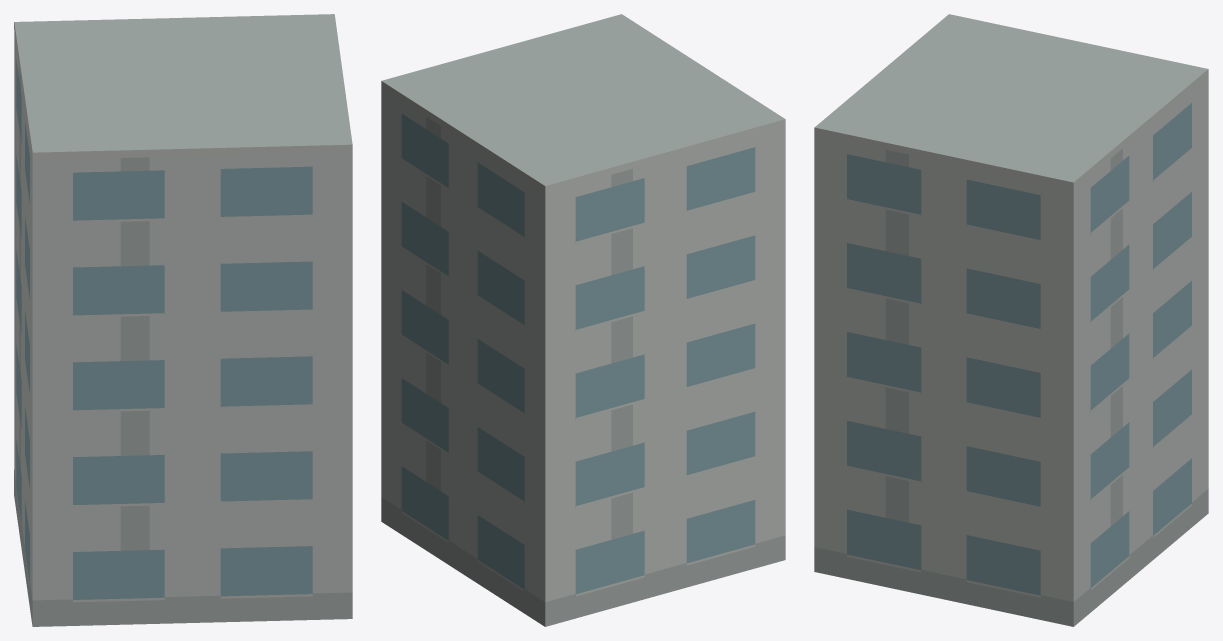
Rendered from residential-e13b5ffd-95a6-4980-bdd7-bbf3a9da1e1e.glb.
3 renders of one model, left to right at view 1: azimuth 30°, elevation 25°; view 2: azimuth 150°, elevation 25°; view 3: azimuth 270°, elevation 25°, orthographic. The views are drawn at different scales.
Parts seen in each view (by area): view 1: residential-e13b5ffd-95a6-4980-bdd7-bbf3a9da1e1e.tmp; view 2: residential-e13b5ffd-95a6-4980-bdd7-bbf3a9da1e1e.tmp; view 3: residential-e13b5ffd-95a6-4980-bdd7-bbf3a9da1e1e.tmp.
Boxes of the visible parts, <box> form: residential-e13b5ffd-95a6-4980-bdd7-bbf3a9da1e1e.tmp: <box>14,14,352,626</box>; residential-e13b5ffd-95a6-4980-bdd7-bbf3a9da1e1e.tmp: <box>381,14,785,626</box>; residential-e13b5ffd-95a6-4980-bdd7-bbf3a9da1e1e.tmp: <box>814,14,1208,626</box>.
Size of the model in its own units: 12.41 by 15.25 by 12.27.
